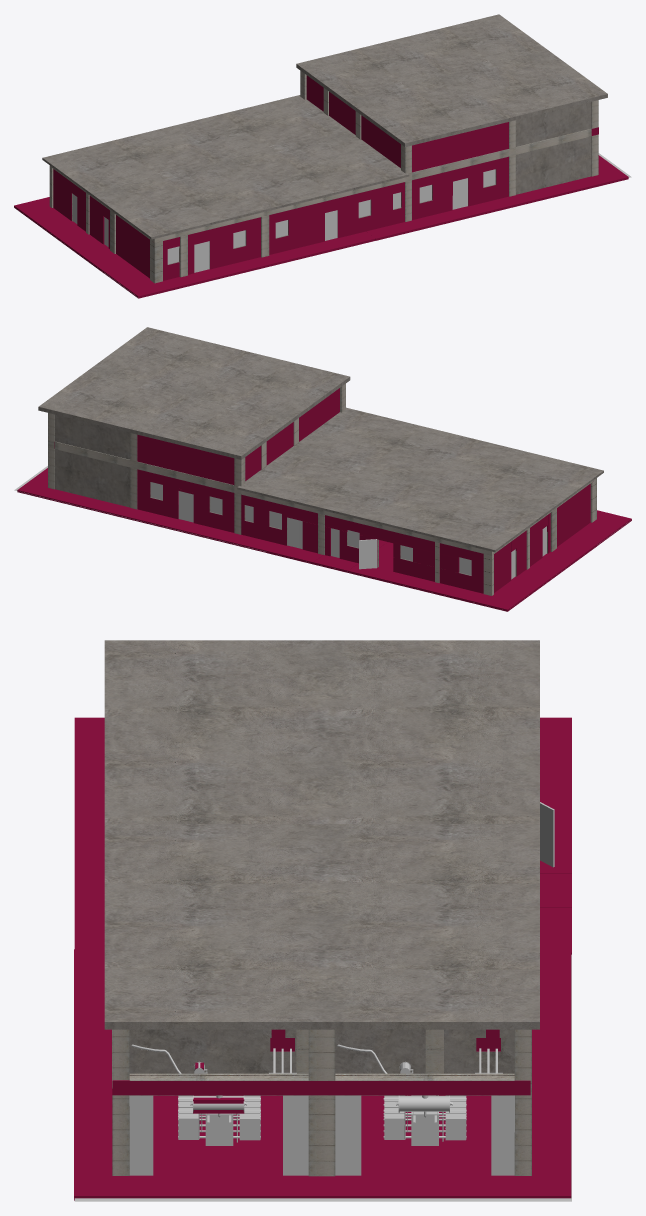
Rendered from outer.DAE.
3 views of the same model, one above another, from view 1: azimuth 30°, elevation 25°; view 2: azimuth 150°, elevation 25°; view 3: azimuth 270°, elevation 25° (orthographic). The views are drawn at different scales.
Parts seen in each view (by area): view 1: SS008_obj008, SS201_obj201, SS009-ch009, SS007-ch035, SS116-ins001, SS007-ch038, SS009-ch007, SS007-ch001, SS009-ch010, SS007-ch032, SS007-ch033, SS007-ch014 (+11 smaller); view 2: SS008_obj008, SS201-ins1_obj201, SS009-ch007, SS009-ch009, SS007-ch009, SS116_, SS007-ch042, SS007-ch001, SS007-ch014, SS007-ch012, SS007-ch024, SS009-ch002 (+15 smaller); view 3: SS008_obj008, SS009-ch009, SS007_obj007, SS198-ch002, SS009-ch010, SS196_obj196, SS009-ch007, SS115_obj115, SS198_obj198, SS193-ins1_obj193, SS193_, SS009_obj009 (+12 smaller).
Part boxes in pixels (x1,y1,x2,y2): SS008_obj008: (42, 14, 607, 239); SS201_obj201: (516, 102, 591, 194); SS009-ch009: (366, 155, 628, 240); SS007-ch035: (163, 156, 508, 250); SS116-ins001: (154, 128, 591, 242); SS007-ch038: (412, 122, 508, 172); SS009-ch007: (14, 197, 130, 272); SS007-ch001: (306, 75, 400, 167); SS009-ch010: (195, 236, 356, 281); SS007-ch032: (337, 195, 452, 238); SS007-ch033: (210, 227, 324, 269); SS007-ch014: (108, 209, 149, 278); SS008_obj008: (38, 327, 603, 552); SS201-ins1_obj201: (55, 414, 130, 507); SS009-ch007: (348, 537, 596, 611); SS009-ch009: (17, 468, 279, 552); SS007-ch009: (137, 469, 483, 562); SS116_: (55, 441, 491, 555); SS007-ch042: (137, 434, 234, 484); SS007-ch001: (245, 388, 339, 480); SS007-ch014: (547, 484, 590, 553); SS007-ch012: (193, 508, 286, 545); SS007-ch024: (393, 557, 483, 593); SS009-ch002: (570, 510, 631, 545); SS008_obj008: (104, 640, 539, 1029); SS009-ch009: (74, 949, 571, 1200); SS007_obj007: (129, 1029, 514, 1073); SS198-ch002: (112, 1080, 530, 1095); SS009-ch010: (74, 783, 104, 930); SS196_obj196: (283, 1095, 361, 1175); SS009-ch007: (540, 717, 571, 873); SS115_obj115: (308, 1029, 335, 1176); SS198_obj198: (129, 1073, 514, 1095); SS193-ins1_obj193: (112, 1029, 129, 1175); SS193_: (514, 1029, 531, 1175); SS009_obj009: (74, 954, 571, 1201).
Size of what is drawn, in the model's own units: 412 by 180 by 66.09.
